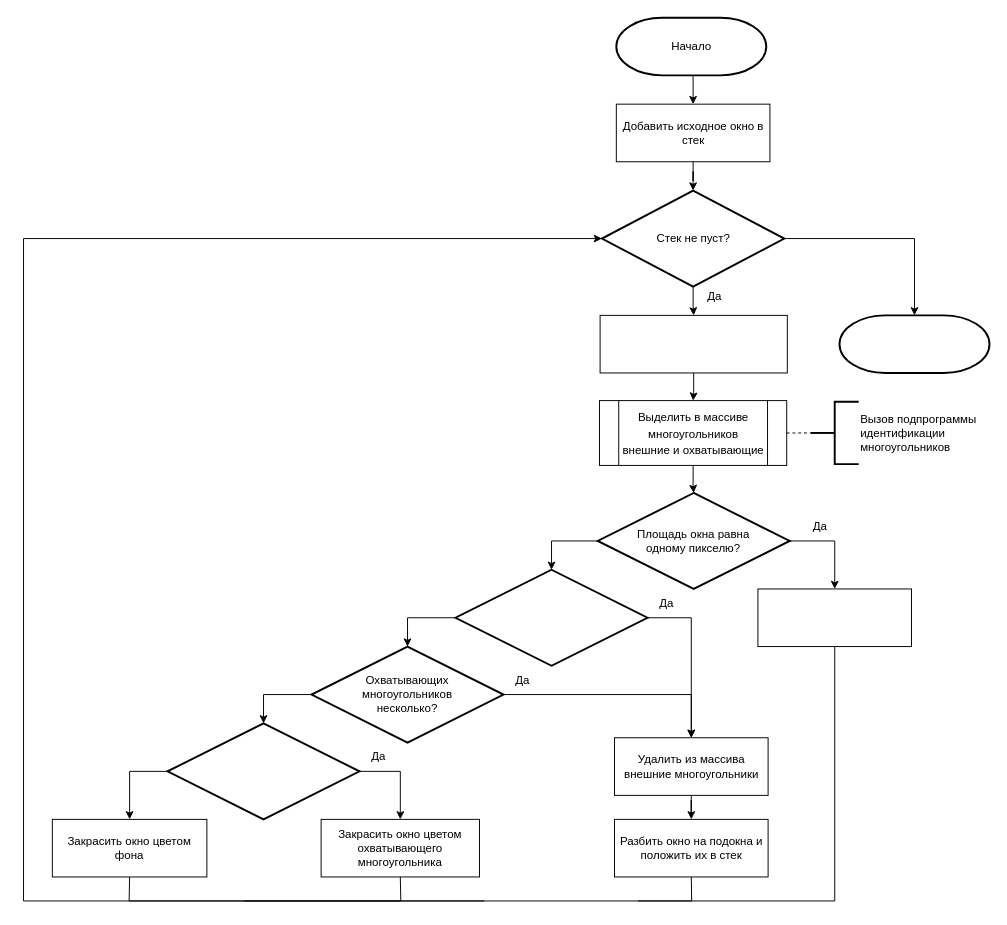
This 1007x925 diagram has some shape labels left out. Here are the shapes that lost their labels. From the top down, the centre of each, then its label:
At point 693,343: "Извлечь окно из стека".
At point 914,343: "Конец".
At point 551,617: "В массиве не все многоугольники являются внешними или охватываю- щими?".
At point 834,617: "Закрасить окно цветом ближайшего к наблюдателю охватывающего многоугольника".
At point 263,771: "Охватывающий многоугольник один?".
